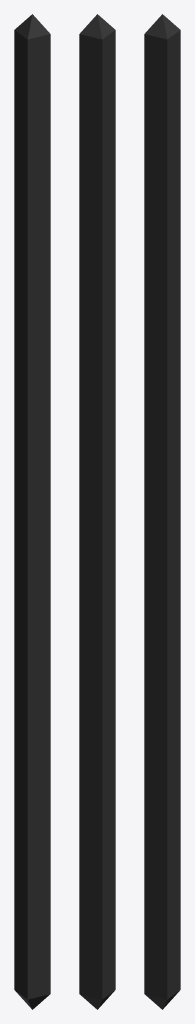
File: Bar.fbx
The picture shows the model from 3 angles, left to right: view 1: azimuth 30°, elevation 25°; view 2: azimuth 150°, elevation 25°; view 3: azimuth 330°, elevation 25°; orthographic projection.
Parts seen in each view (by area): view 1: Bar; view 2: Bar; view 3: Bar.
Boxes of the visible parts, left/top/right/bottom form: Bar: left=14, top=14, right=50, bottom=1009; Bar: left=79, top=14, right=115, bottom=1009; Bar: left=144, top=14, right=180, bottom=1009.
Size of the model in its own units: 20 by 830 by 20.
